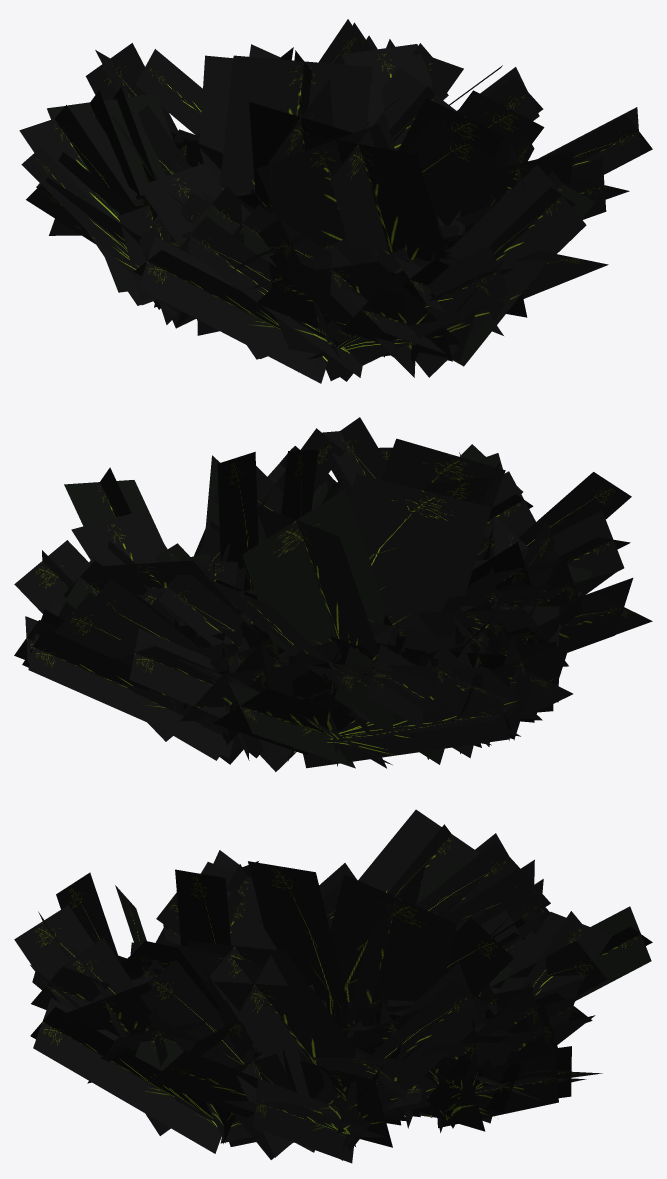
The model's file is grass_elephant.glb.
3 renders of one model, top to bottom at view 1: azimuth 30°, elevation 25°; view 2: azimuth 150°, elevation 25°; view 3: azimuth 270°, elevation 25°, orthographic. The views are drawn at different scales.
Parts seen in each view (by area): view 1: Grass (elephant)01; view 2: Grass (elephant)01; view 3: Grass (elephant)01.
Part boxes in pixels (box(x1,y1,x2,y2)): Grass (elephant)01: box(19, 19, 652, 383); Grass (elephant)01: box(14, 417, 652, 771); Grass (elephant)01: box(14, 809, 652, 1163).
Size of the model in its own units: 116 by 45.85 by 119.
Materials: 1 (1 with a texture image).
